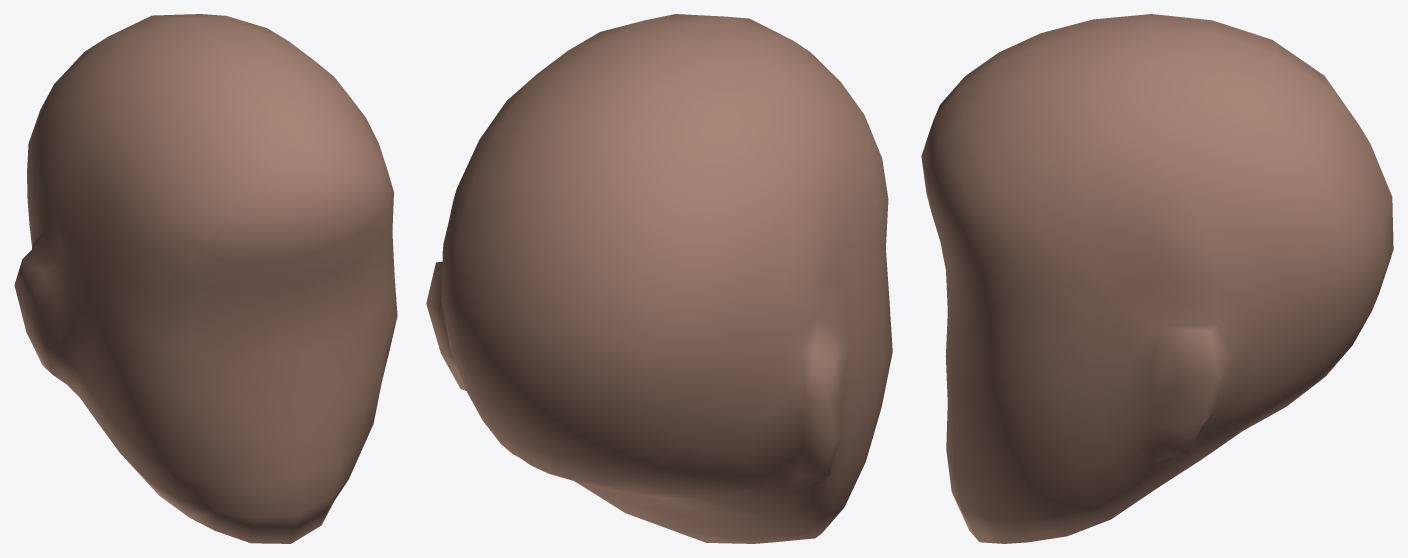
File: headOccluder2.glb
3 views of the same model, side by side, from view 1: azimuth 30°, elevation 25°; view 2: azimuth 150°, elevation 25°; view 3: azimuth 270°, elevation 25° (orthographic). The views are drawn at different scales.
Parts seen in each view (by area): view 1: Model; view 2: Model; view 3: Model.
Part boxes in pixels (x1,y1,x2,y2): Model: (14,14,397,543); Model: (426,14,892,543); Model: (921,14,1393,543).
Bounding box in the file's own units: 16.88 × 22.04 × 18.82.
